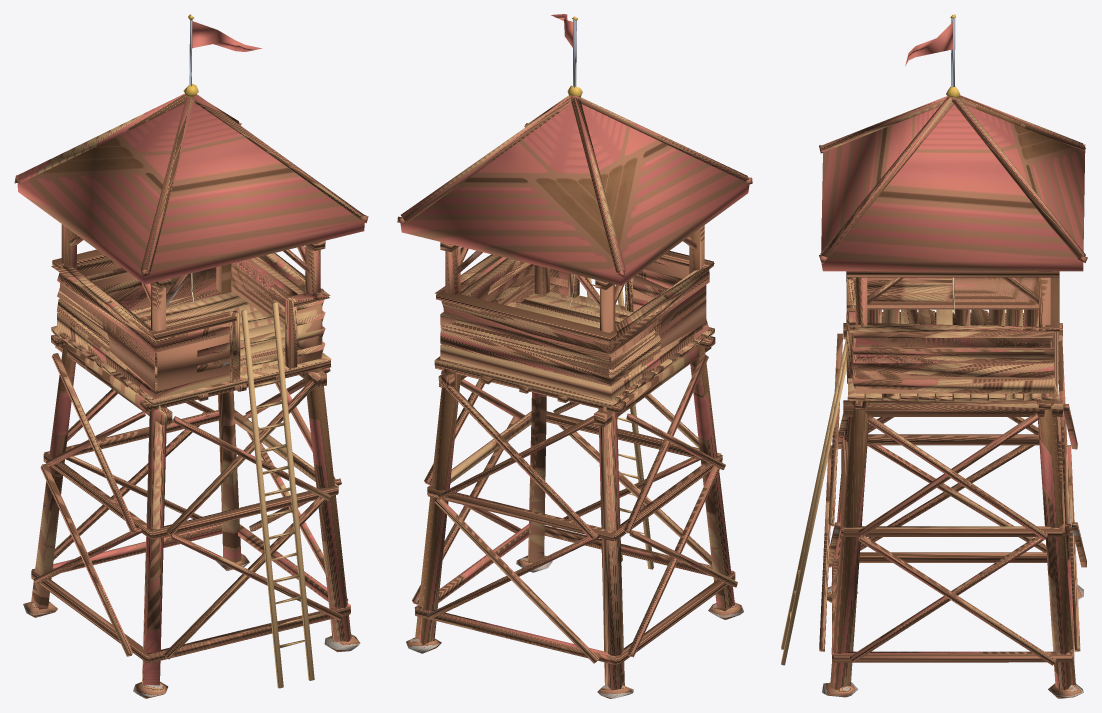
3 views of the same model, side by side, from view 1: azimuth 30°, elevation 25°; view 2: azimuth 150°, elevation 25°; view 3: azimuth 270°, elevation 25° (orthographic). The views are drawn at different scales.
Visible parts, largest first — view 1: wooden-watchtower_body, wooden-watchtower_details, wooden-watchtower_pennant; view 2: wooden-watchtower_body, wooden-watchtower_details; view 3: wooden-watchtower_body, wooden-watchtower_details, wooden-watchtower_pennant.
Boxes of the visible parts, <box> form: wooden-watchtower_body: <box>14,93,368,698</box>; wooden-watchtower_details: <box>183,14,314,688</box>; wooden-watchtower_pennant: <box>192,21,262,51</box>; wooden-watchtower_body: <box>397,95,752,698</box>; wooden-watchtower_details: <box>567,16,653,569</box>; wooden-watchtower_body: <box>819,95,1087,698</box>; wooden-watchtower_details: <box>781,14,960,665</box>; wooden-watchtower_pennant: <box>905,22,952,65</box>.
Size of the model in its own units: 3.68 by 9.54 by 4.18.
7 materials, 1 textured.
